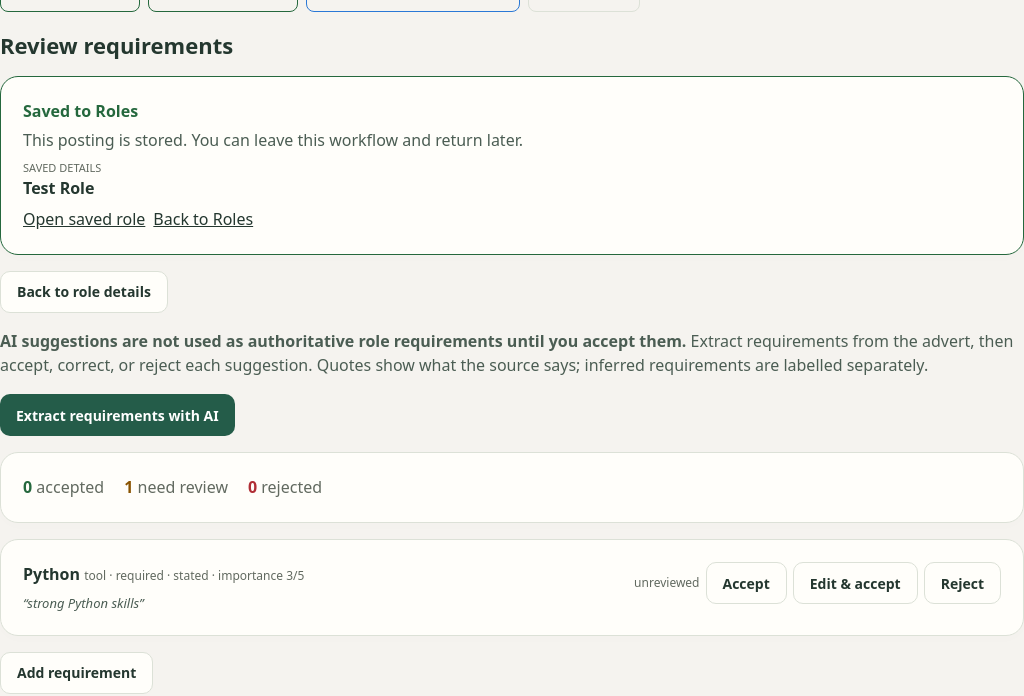
Test: edit & accept › a failed save preserves the edited draft and the error is recoverable on retry
The width and height of the screenshot is (1024, 696).
Step 1. Click the button "Edit & accept" → (855, 583), box [793,562,918,604]
(page scrolled)
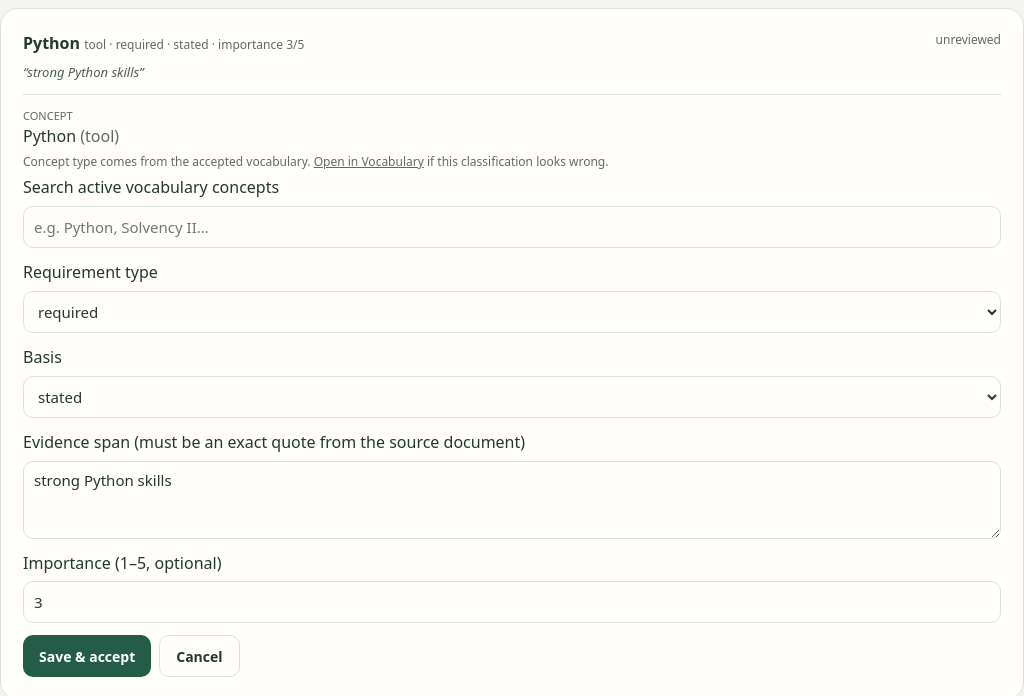
Step 2. Select "preferred" in the dropdown labelled "Requirement type" → (512, 312), box [23,291,1001,333]
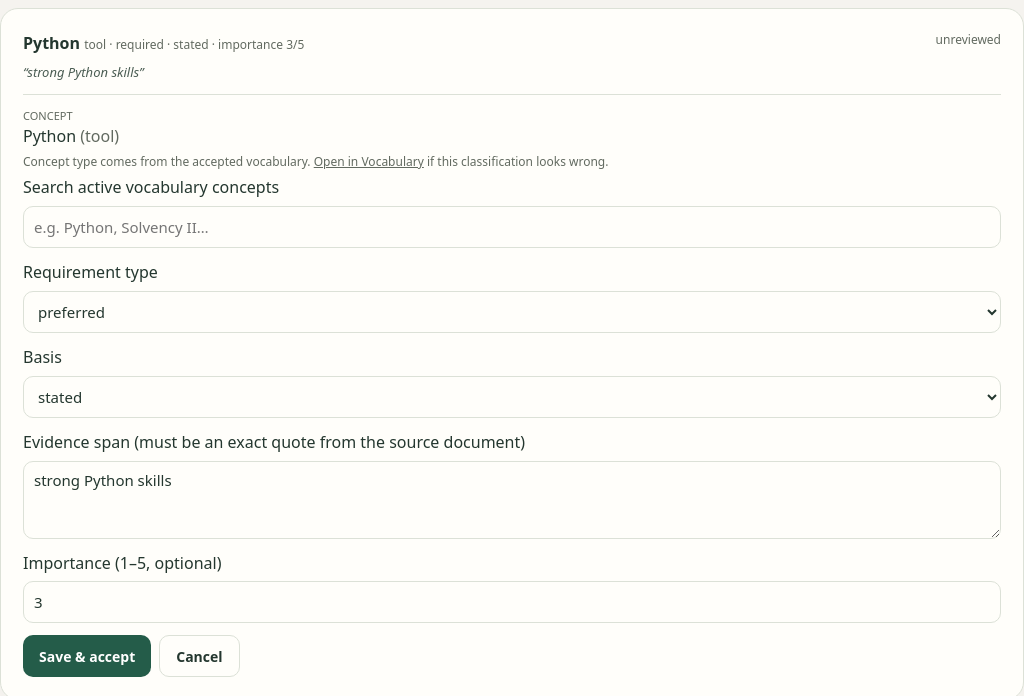
Step 3. Click the button "Save & accept" → (87, 656), box [23,635,151,677]
(page scrolled)
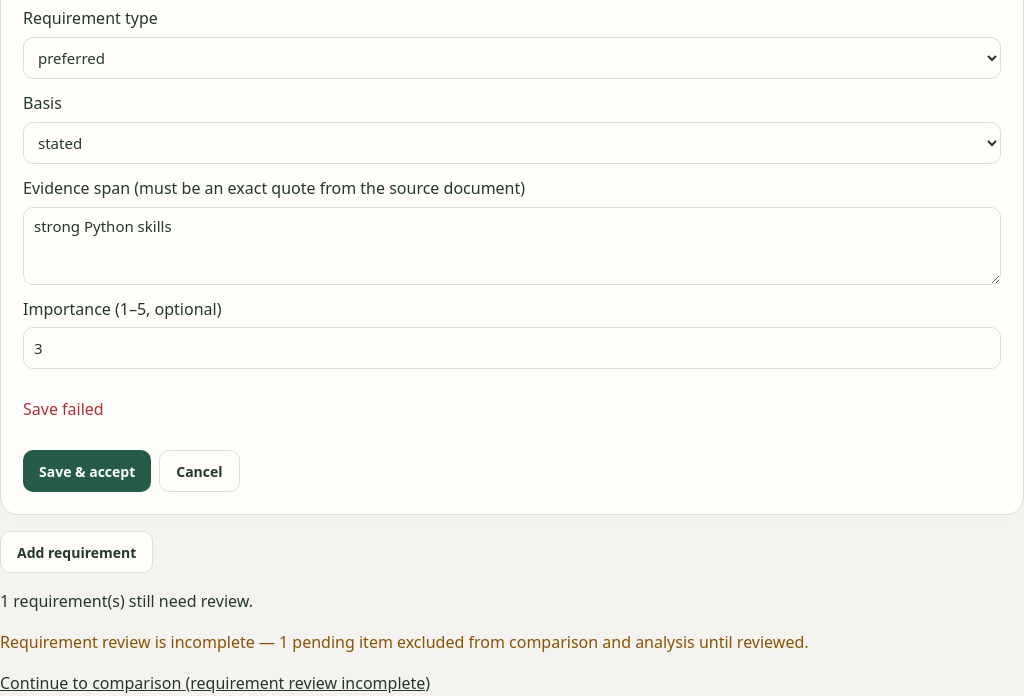
Expected: the text "Save failed" is shown, [23,398,104,420]
Step 4. Click the button "Save & accept" → (87, 471), box [23,450,151,492]
(page scrolled)
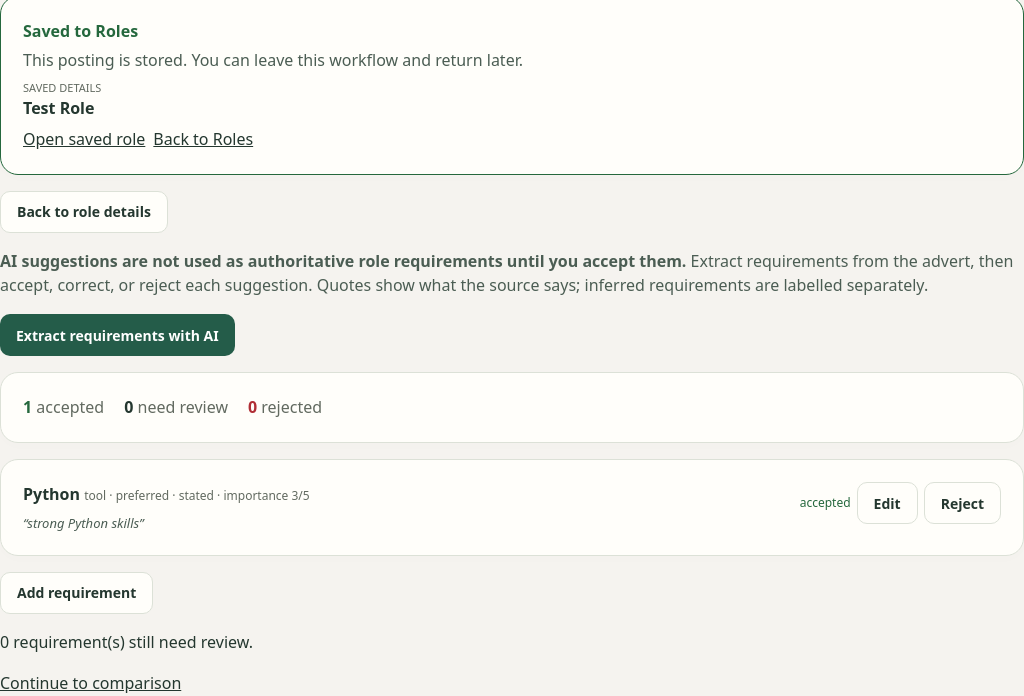
Expected: the text "accepted" is shown 2 times, [36,396,104,418]; [800,494,851,512]
